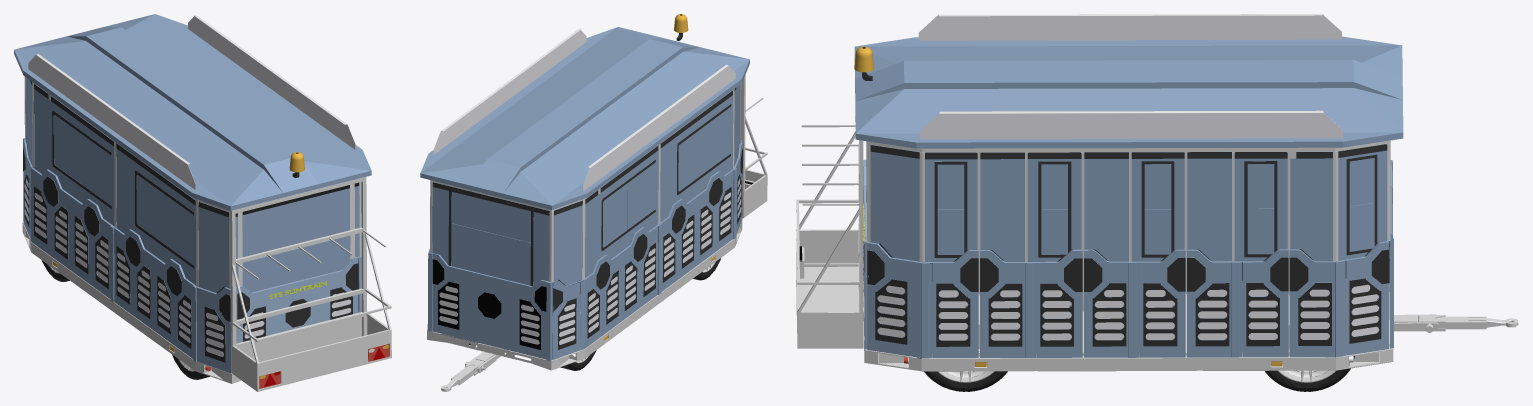
Rendered from train.glb.
The picture shows the model from 3 angles, left to right: view 1: azimuth 30°, elevation 25°; view 2: azimuth 150°, elevation 25°; view 3: azimuth 270°, elevation 25°; orthographic projection. The views are drawn at different scales.
Visible parts, largest first — view 1: Dach_Geschlossen_anh1, skitraeger_standard_1_anh1, fenster_ganz_heck_anh1, body_left_2_anh1, body_left_3_anh1, body_heck_anh1, fenster_body_3_anh1, fenster_body_2_anh1, Werbetafel_1_anh1, Werbetafel_2_anh1, body_left_4_anh1, fenster_body_1_anh1 (+7 smaller); view 2: Dach_Geschlossen_anh1, body_left_anh1, fenster_body_5_anh1, body_left_2_anh1, body_left_3_anh1, fenster_body_3_anh1, fenster_body_2_anh1, Werbetafel_1_anh1, Werbetafel_2_anh1, fenster_beweglich_1_anh1, body_left_1_anh1, fenster_body_4_anh1 (+9 smaller); view 3: Dach_Geschlossen_anh1, Werbetafel_2_anh1, Werbetafel_1_anh1, skitraeger_standard_1_anh1, body_3_anh1, body_5_anh1, body_7_anh1, body_9_anh1, Standard Anhänger 00000001:1, body_10_anh1, body_1_anh1, fenster_5_anh1 (+26 smaller).
Part boxes in pixels (x1,y1,x2,y2): Dach_Geschlossen_anh1: [14, 14, 371, 210]; skitraeger_standard_1_anh1: [230, 177, 391, 391]; fenster_ganz_heck_anh1: [235, 182, 359, 292]; body_left_2_anh1: [31, 167, 114, 302]; body_left_3_anh1: [114, 227, 196, 361]; body_heck_anh1: [230, 256, 361, 343]; fenster_body_3_anh1: [34, 83, 114, 226]; fenster_body_2_anh1: [116, 143, 196, 285]; Werbetafel_1_anh1: [28, 54, 195, 190]; Werbetafel_2_anh1: [188, 14, 355, 149]; body_left_4_anh1: [196, 286, 231, 373]; fenster_body_1_anh1: [198, 201, 229, 293]; Dach_Geschlossen_anh1: [420, 27, 749, 209]; body_left_anh1: [427, 252, 552, 360]; fenster_body_5_anh1: [432, 182, 549, 286]; body_left_2_anh1: [583, 224, 661, 348]; body_left_3_anh1: [659, 168, 736, 291]; fenster_body_3_anh1: [585, 145, 658, 277]; fenster_body_2_anh1: [660, 90, 732, 222]; Werbetafel_1_anh1: [582, 64, 735, 191]; Werbetafel_2_anh1: [433, 28, 586, 154]; fenster_beweglich_1_anh1: [451, 193, 530, 242]; body_left_1_anh1: [552, 280, 584, 359]; fenster_body_4_anh1: [553, 200, 582, 293]; Dach_Geschlossen_anh1: [854, 36, 1403, 148]; Werbetafel_2_anh1: [920, 110, 1343, 138]; Werbetafel_1_anh1: [918, 14, 1341, 40]; skitraeger_standard_1_anh1: [796, 125, 863, 348]; body_3_anh1: [1231, 249, 1288, 357]; body_5_anh1: [1128, 249, 1185, 357]; body_7_anh1: [1025, 249, 1082, 357]; body_9_anh1: [921, 250, 978, 358]; Standard Anhänger 00000001:1: [921, 351, 1335, 371]; body_10_anh1: [867, 242, 922, 357]; body_1_anh1: [1335, 241, 1389, 357]; fenster_5_anh1: [870, 145, 919, 261].
Size of the model in its own units: 1.92 by 2.52 by 5.46.
